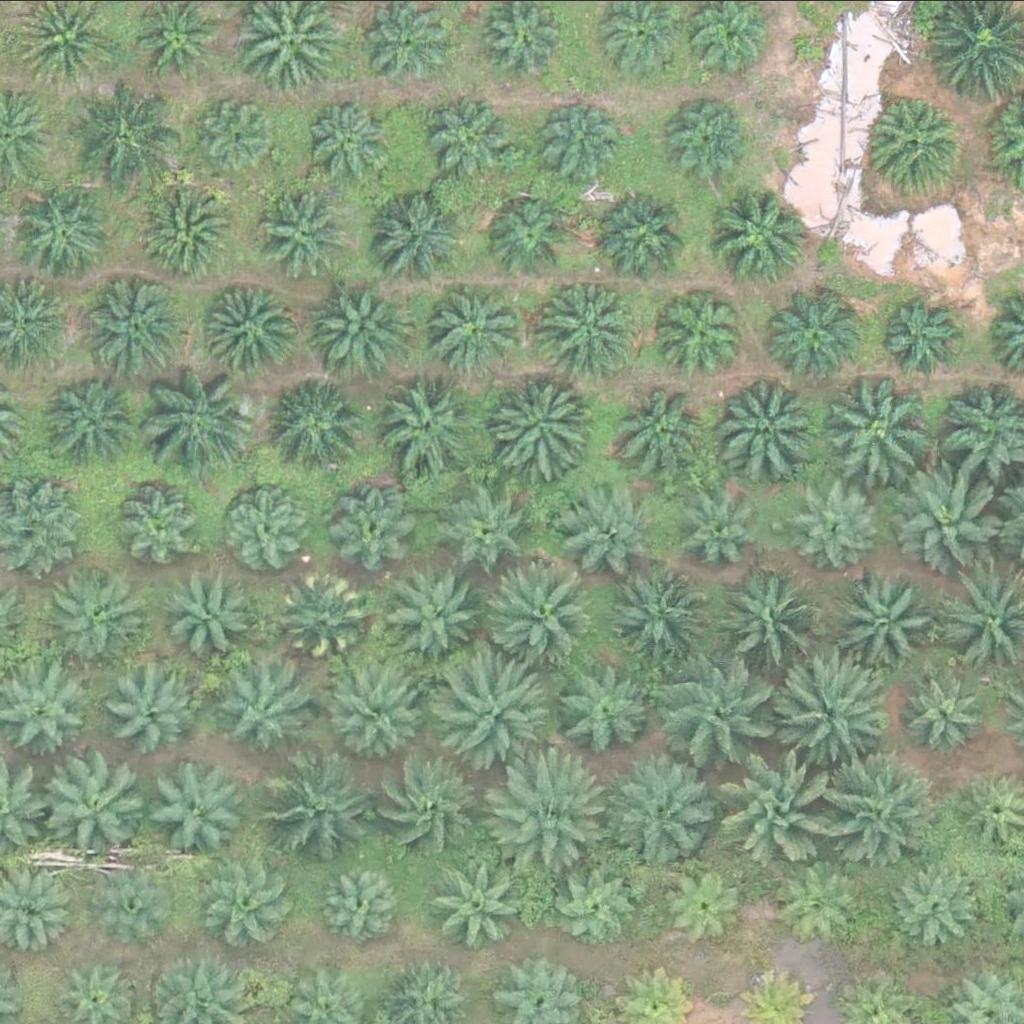Kelapa_Sawit: (720, 566, 834, 679), (43, 749, 157, 862), (147, 359, 260, 472), (822, 373, 935, 486), (666, 649, 779, 762), (824, 750, 937, 863), (63, 74, 176, 187), (897, 460, 1010, 573), (707, 368, 821, 480), (443, 651, 557, 763), (728, 745, 842, 857), (267, 750, 381, 862), (489, 554, 602, 666), (771, 655, 884, 767), (602, 758, 715, 870), (487, 758, 600, 870), (374, 754, 487, 866), (137, 184, 238, 284), (366, 182, 467, 282), (598, 186, 699, 286), (714, 185, 815, 285), (542, 276, 643, 376), (270, 372, 371, 472), (382, 376, 483, 476), (498, 376, 599, 476), (836, 567, 937, 667), (387, 561, 488, 661), (548, 662, 649, 762), (148, 750, 249, 850), (432, 851, 533, 951), (46, 566, 147, 666), (42, 368, 143, 468), (85, 274, 186, 374), (17, 179, 118, 279), (870, 91, 970, 191), (204, 277, 304, 377), (309, 276, 409, 376), (770, 283, 870, 383), (614, 374, 714, 474), (558, 473, 658, 573), (614, 566, 714, 666), (330, 667, 430, 767), (318, 861, 407, 949), (194, 88, 282, 176), (301, 99, 389, 187), (429, 95, 517, 183), (531, 102, 619, 190), (262, 186, 350, 274), (664, 286, 752, 374), (877, 294, 965, 382), (108, 669, 196, 757), (224, 668, 312, 756), (902, 667, 990, 755), (208, 853, 296, 941), (658, 864, 746, 952), (781, 859, 869, 947), (666, 96, 754, 183), (484, 191, 572, 278), (428, 282, 516, 369), (122, 479, 210, 566), (231, 482, 319, 569), (330, 479, 418, 566), (447, 482, 535, 569), (691, 482, 779, 569), (796, 477, 884, 564), (283, 572, 371, 659), (168, 573, 256, 660), (556, 862, 644, 949), (890, 861, 978, 948), (98, 862, 174, 937)
